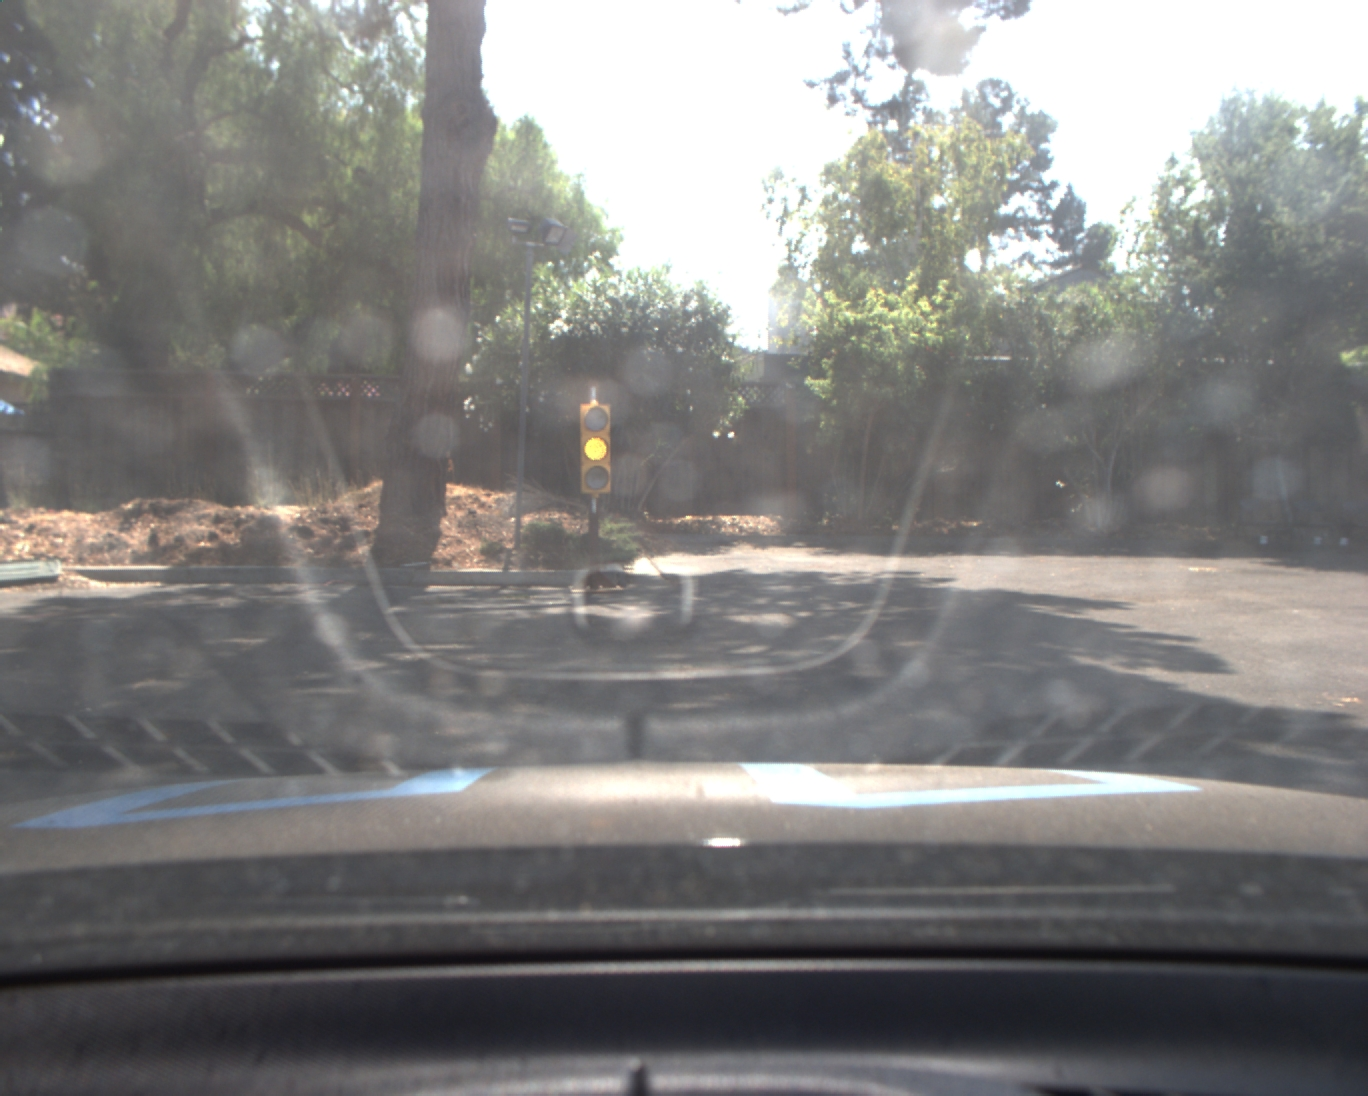yellow: (577, 401, 617, 497)
